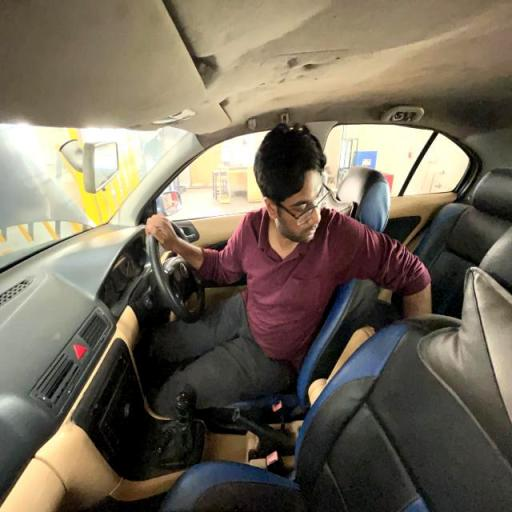Reaching_behind: (147, 121, 432, 370)
